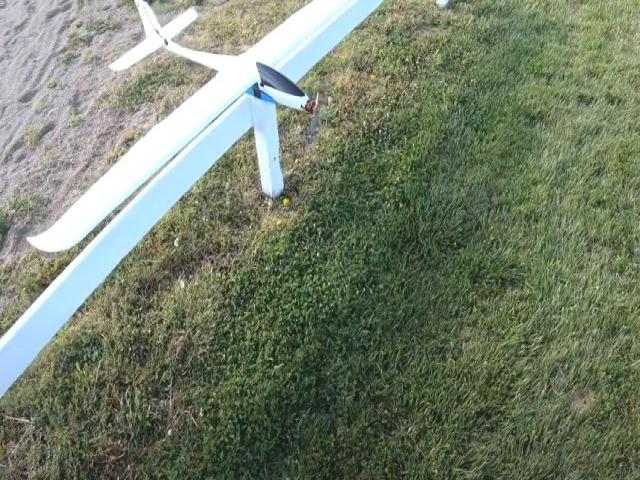iha: (22, 1, 366, 255)
